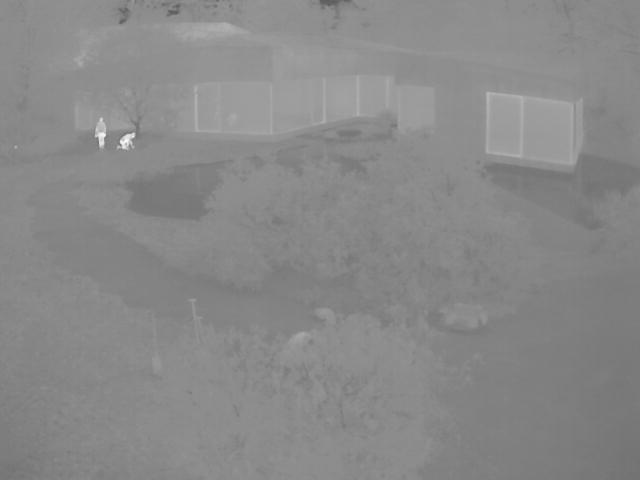person: (96, 116, 108, 148)
